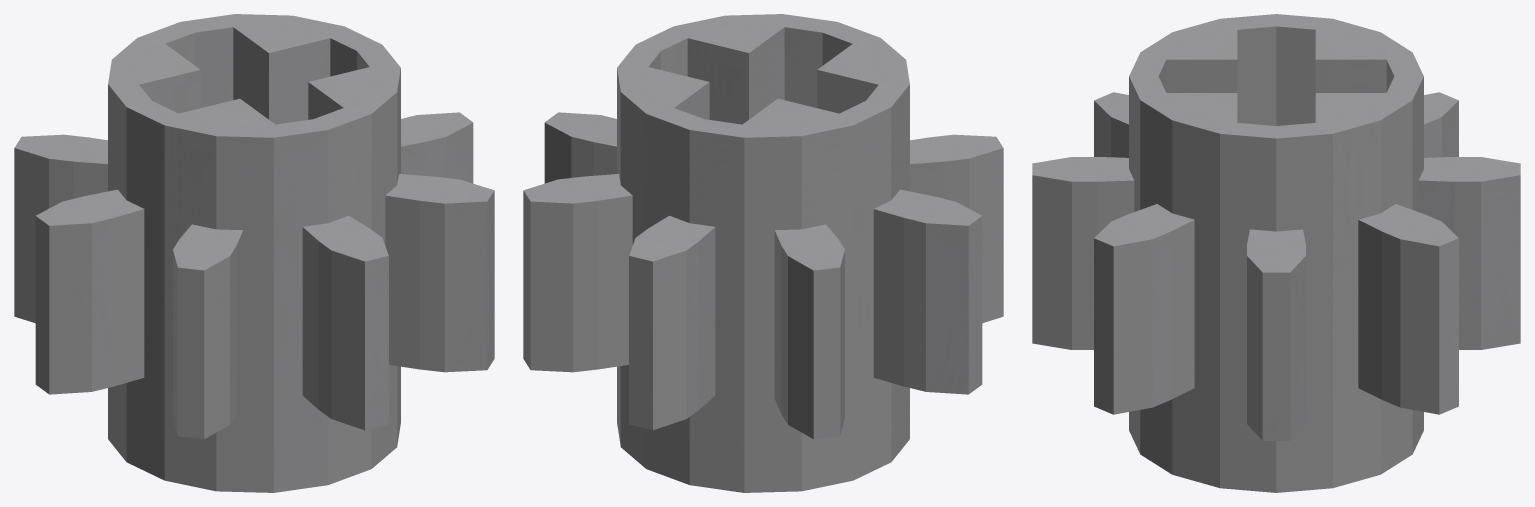
File: gear_wheel_T8.dae
The picture shows the model from 3 angles, left to right: view 1: azimuth 30°, elevation 25°; view 2: azimuth 150°, elevation 25°; view 3: azimuth 270°, elevation 25°; orthographic projection.
Visible parts, largest first — view 1: node; view 2: node; view 3: node.
Boxes of the visible parts, <box> form: node: <box>14,14,494,492</box>; node: <box>523,14,1003,492</box>; node: <box>1032,14,1520,492</box>.
Size of the model in its own units: 24.36 by 19.5 by 24.36.
1 material, 1 textured.
